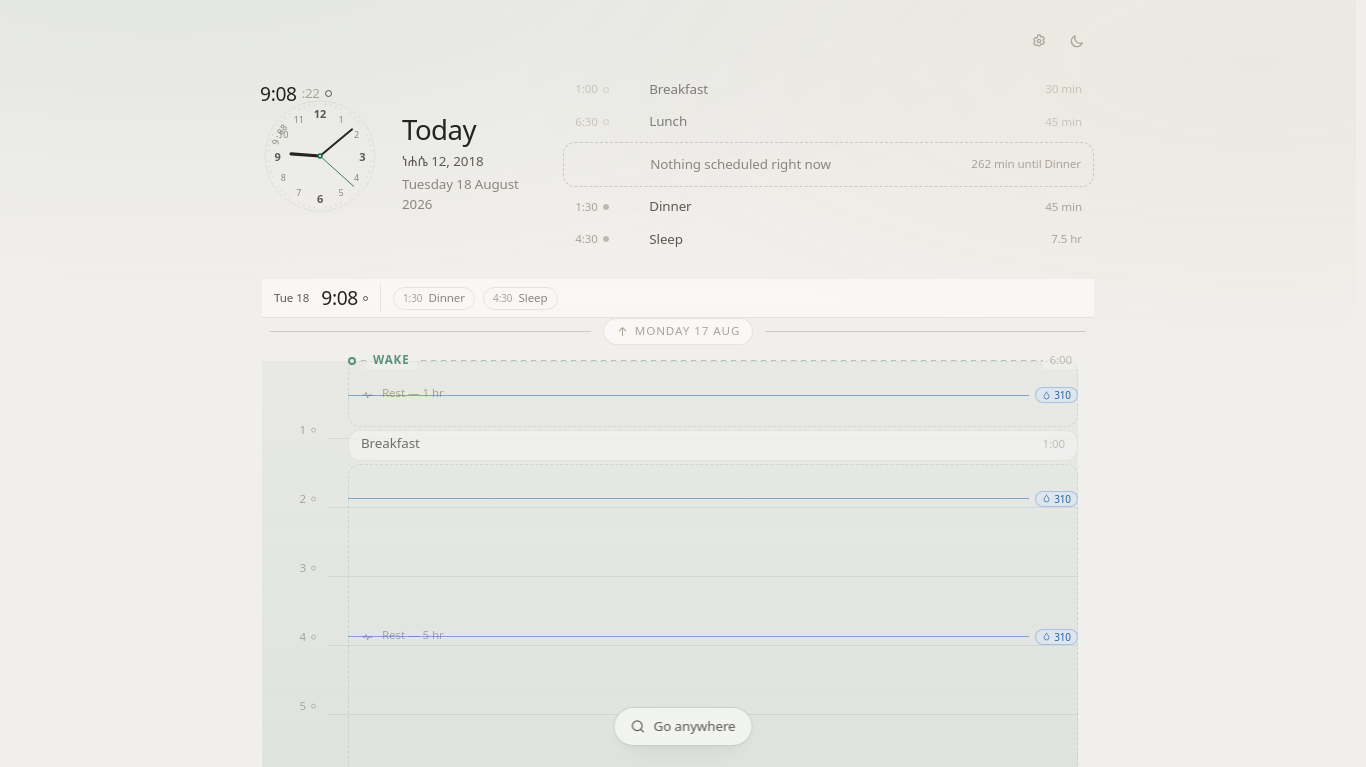
the day header follows the timeline › picking a day navigates and closes
Click the button with class "dh-title". click: x=450, y=129
box: [402,109,497,149]
(page scrolled)
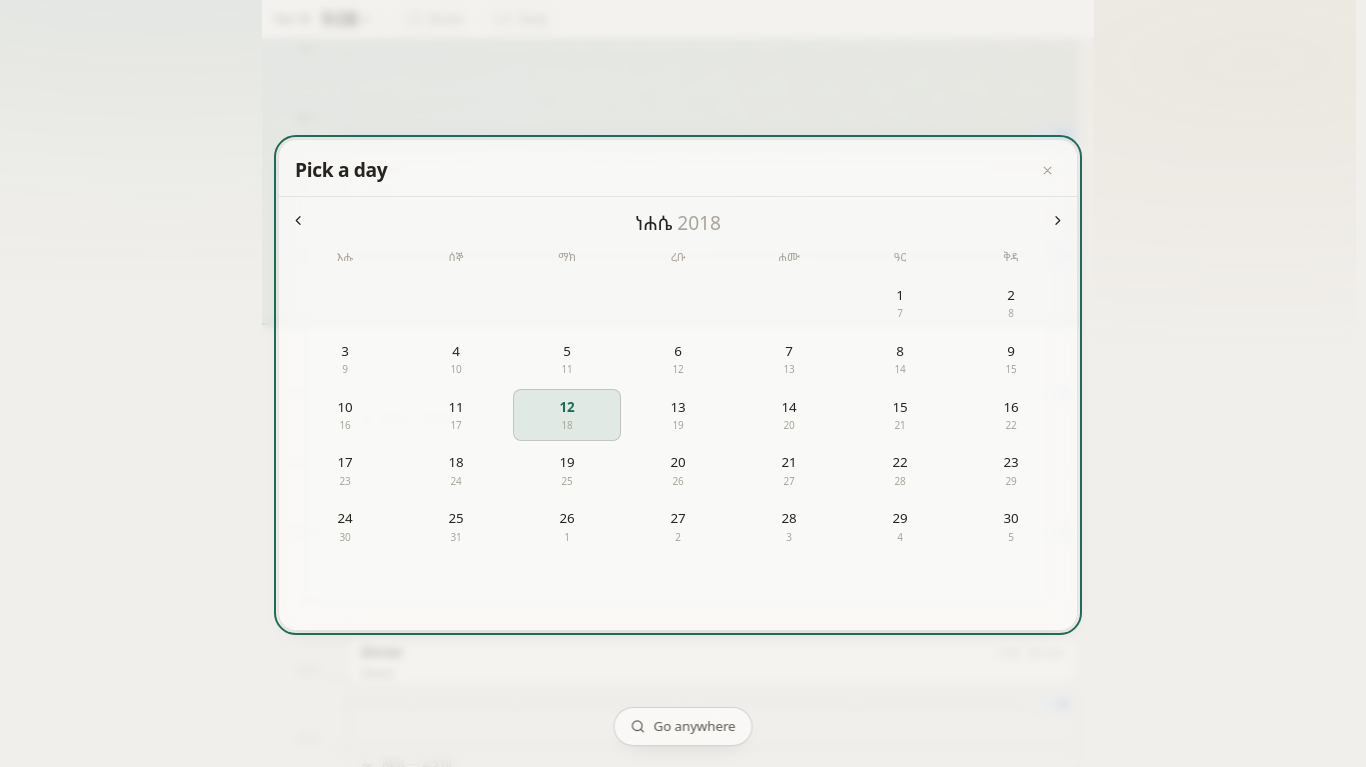
Click the button with class "mini-day" showing "1 7". click: x=900, y=303
box: [846,277,954,330]
(page scrolled)
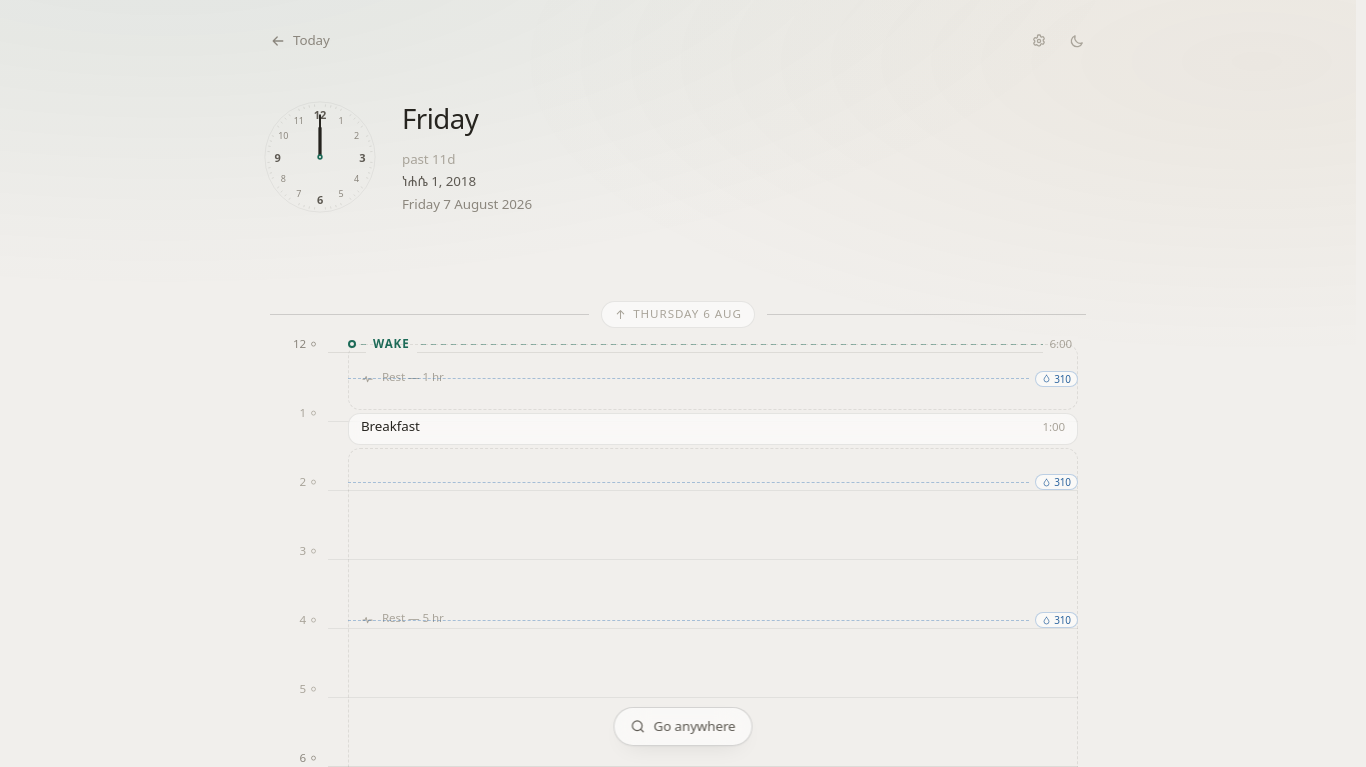
expect the dialog is gone: met
